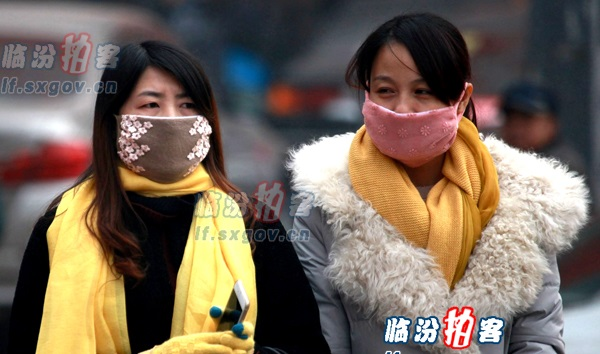face_mask: (366, 44, 460, 163), (120, 64, 212, 185)
